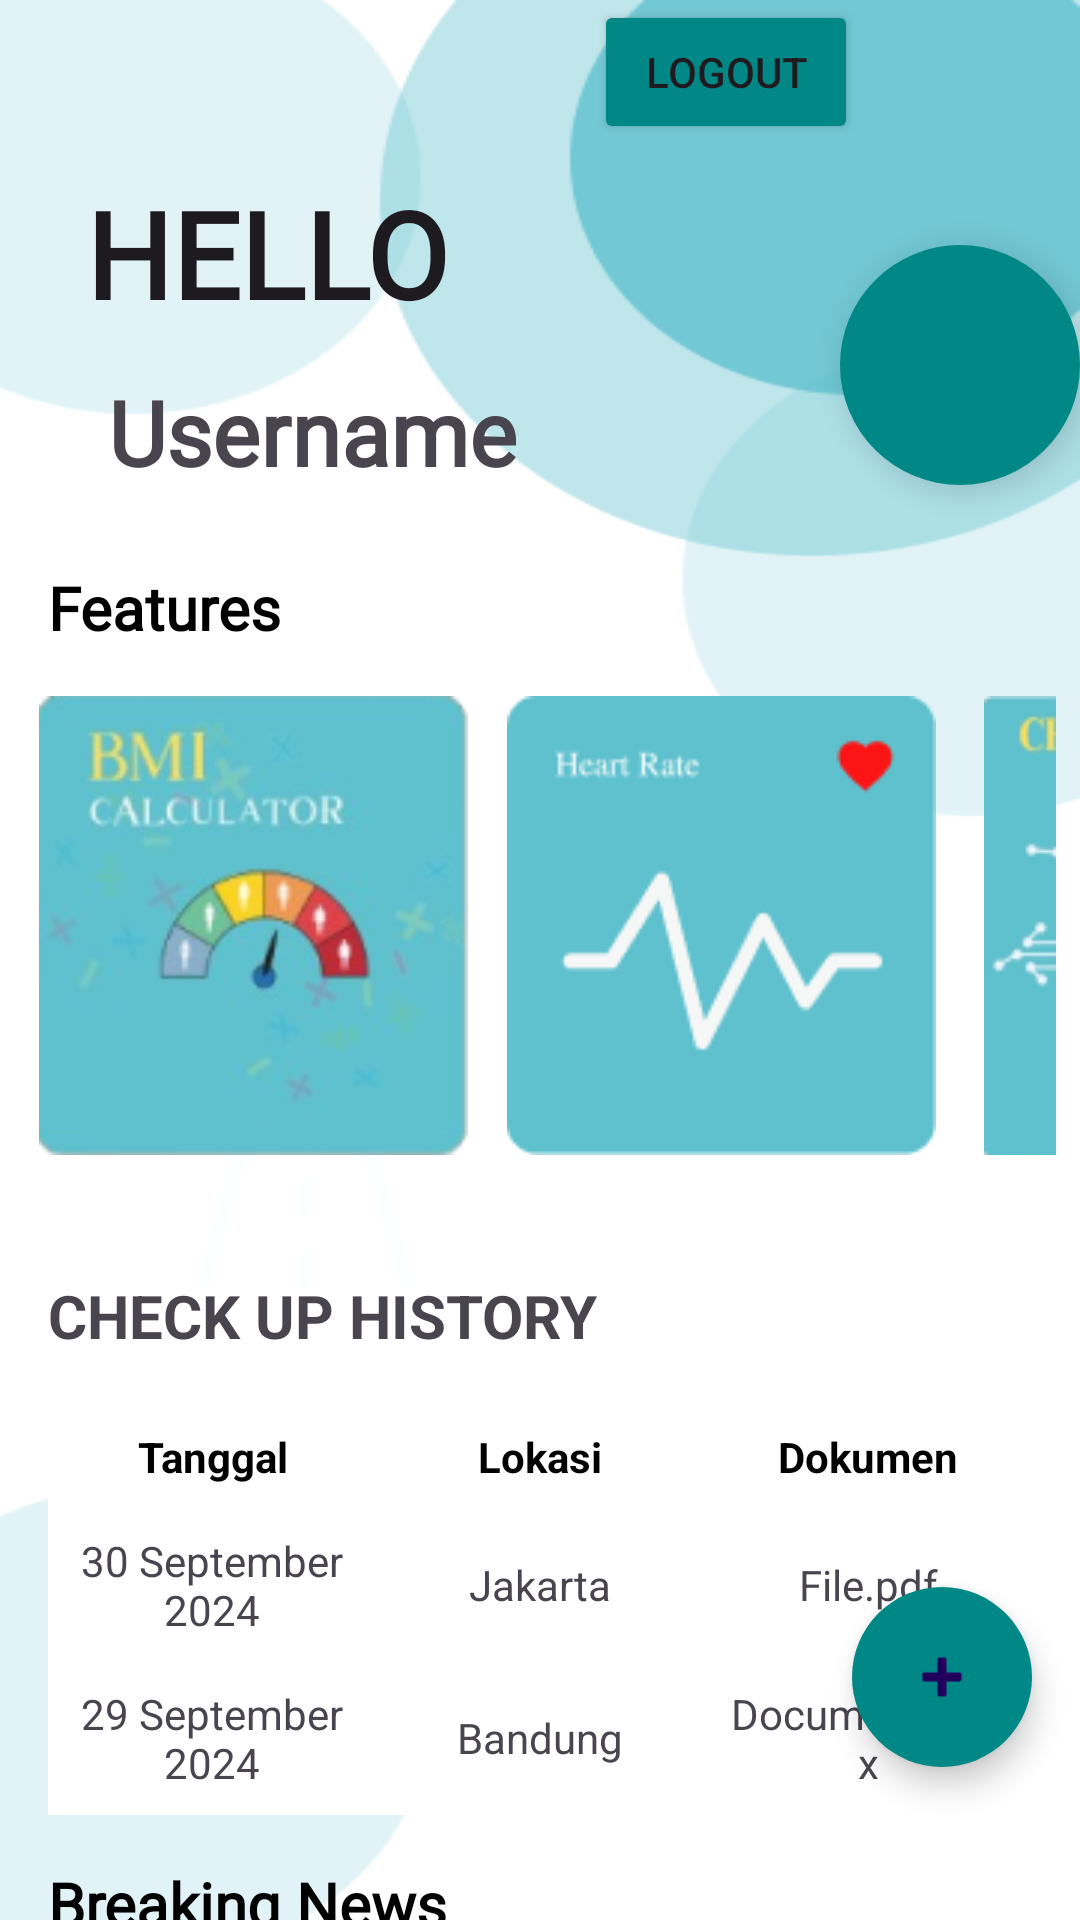

Point at icon controls on the screen. Image size 1080*1920, points as point (x, y).
Tambah Data MCU: point (942, 1677)
